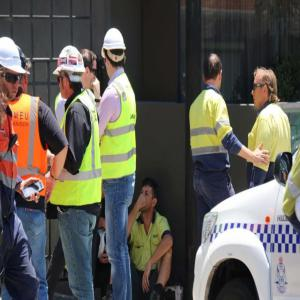none: (252, 68, 278, 110), (203, 54, 223, 93), (80, 49, 98, 90), (140, 179, 160, 215)
white: (57, 45, 85, 98), (1, 37, 21, 100), (103, 27, 126, 75)
